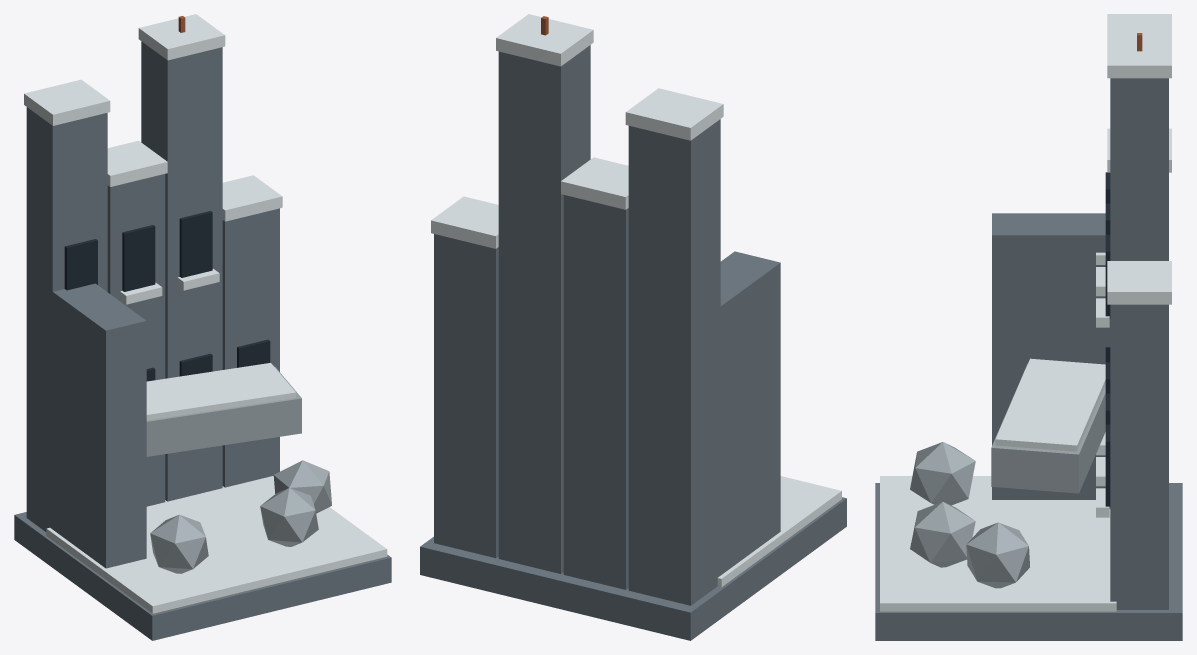
The model's file is collapsed_building.glb.
3 renders of one model, left to right at view 1: azimuth 30°, elevation 25°; view 2: azimuth 150°, elevation 25°; view 3: azimuth 270°, elevation 25°, orthographic. The views are drawn at different scales.
Parts seen in each view (by area): view 1: collapsed_building; view 2: collapsed_building; view 3: collapsed_building.
Part boxes in pixels (bbox=[...]): collapsed_building: bbox=[14, 14, 391, 640]; collapsed_building: bbox=[420, 14, 846, 640]; collapsed_building: bbox=[875, 14, 1182, 640].
Bounding box in the file's own units: 1 × 2 × 1.
